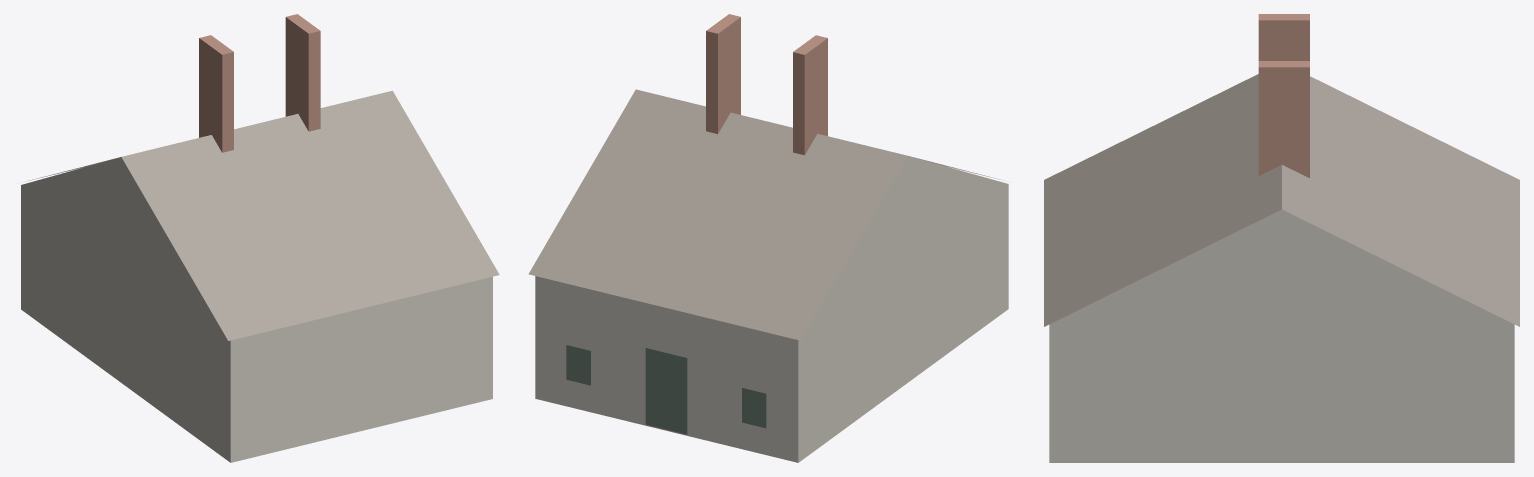
The model's file is recon_1835_north_h1_007__recommended_1835.glb.
3 renders of one model, left to right at view 1: azimuth 30°, elevation 25°; view 2: azimuth 150°, elevation 25°; view 3: azimuth 270°, elevation 25°, orthographic. The views are drawn at different scales.
Parts seen in each view (by area): view 1: recon_1835_north_h1_007__recommended_1835; view 2: recon_1835_north_h1_007__recommended_1835; view 3: recon_1835_north_h1_007__recommended_1835.
Boxes of the visible parts, bbox=[...] form: recon_1835_north_h1_007__recommended_1835: bbox=[21, 14, 499, 462]; recon_1835_north_h1_007__recommended_1835: bbox=[528, 14, 1008, 462]; recon_1835_north_h1_007__recommended_1835: bbox=[1044, 14, 1519, 462].
Bounding box in the file's own units: 8.2 × 9.19 × 11.21.
